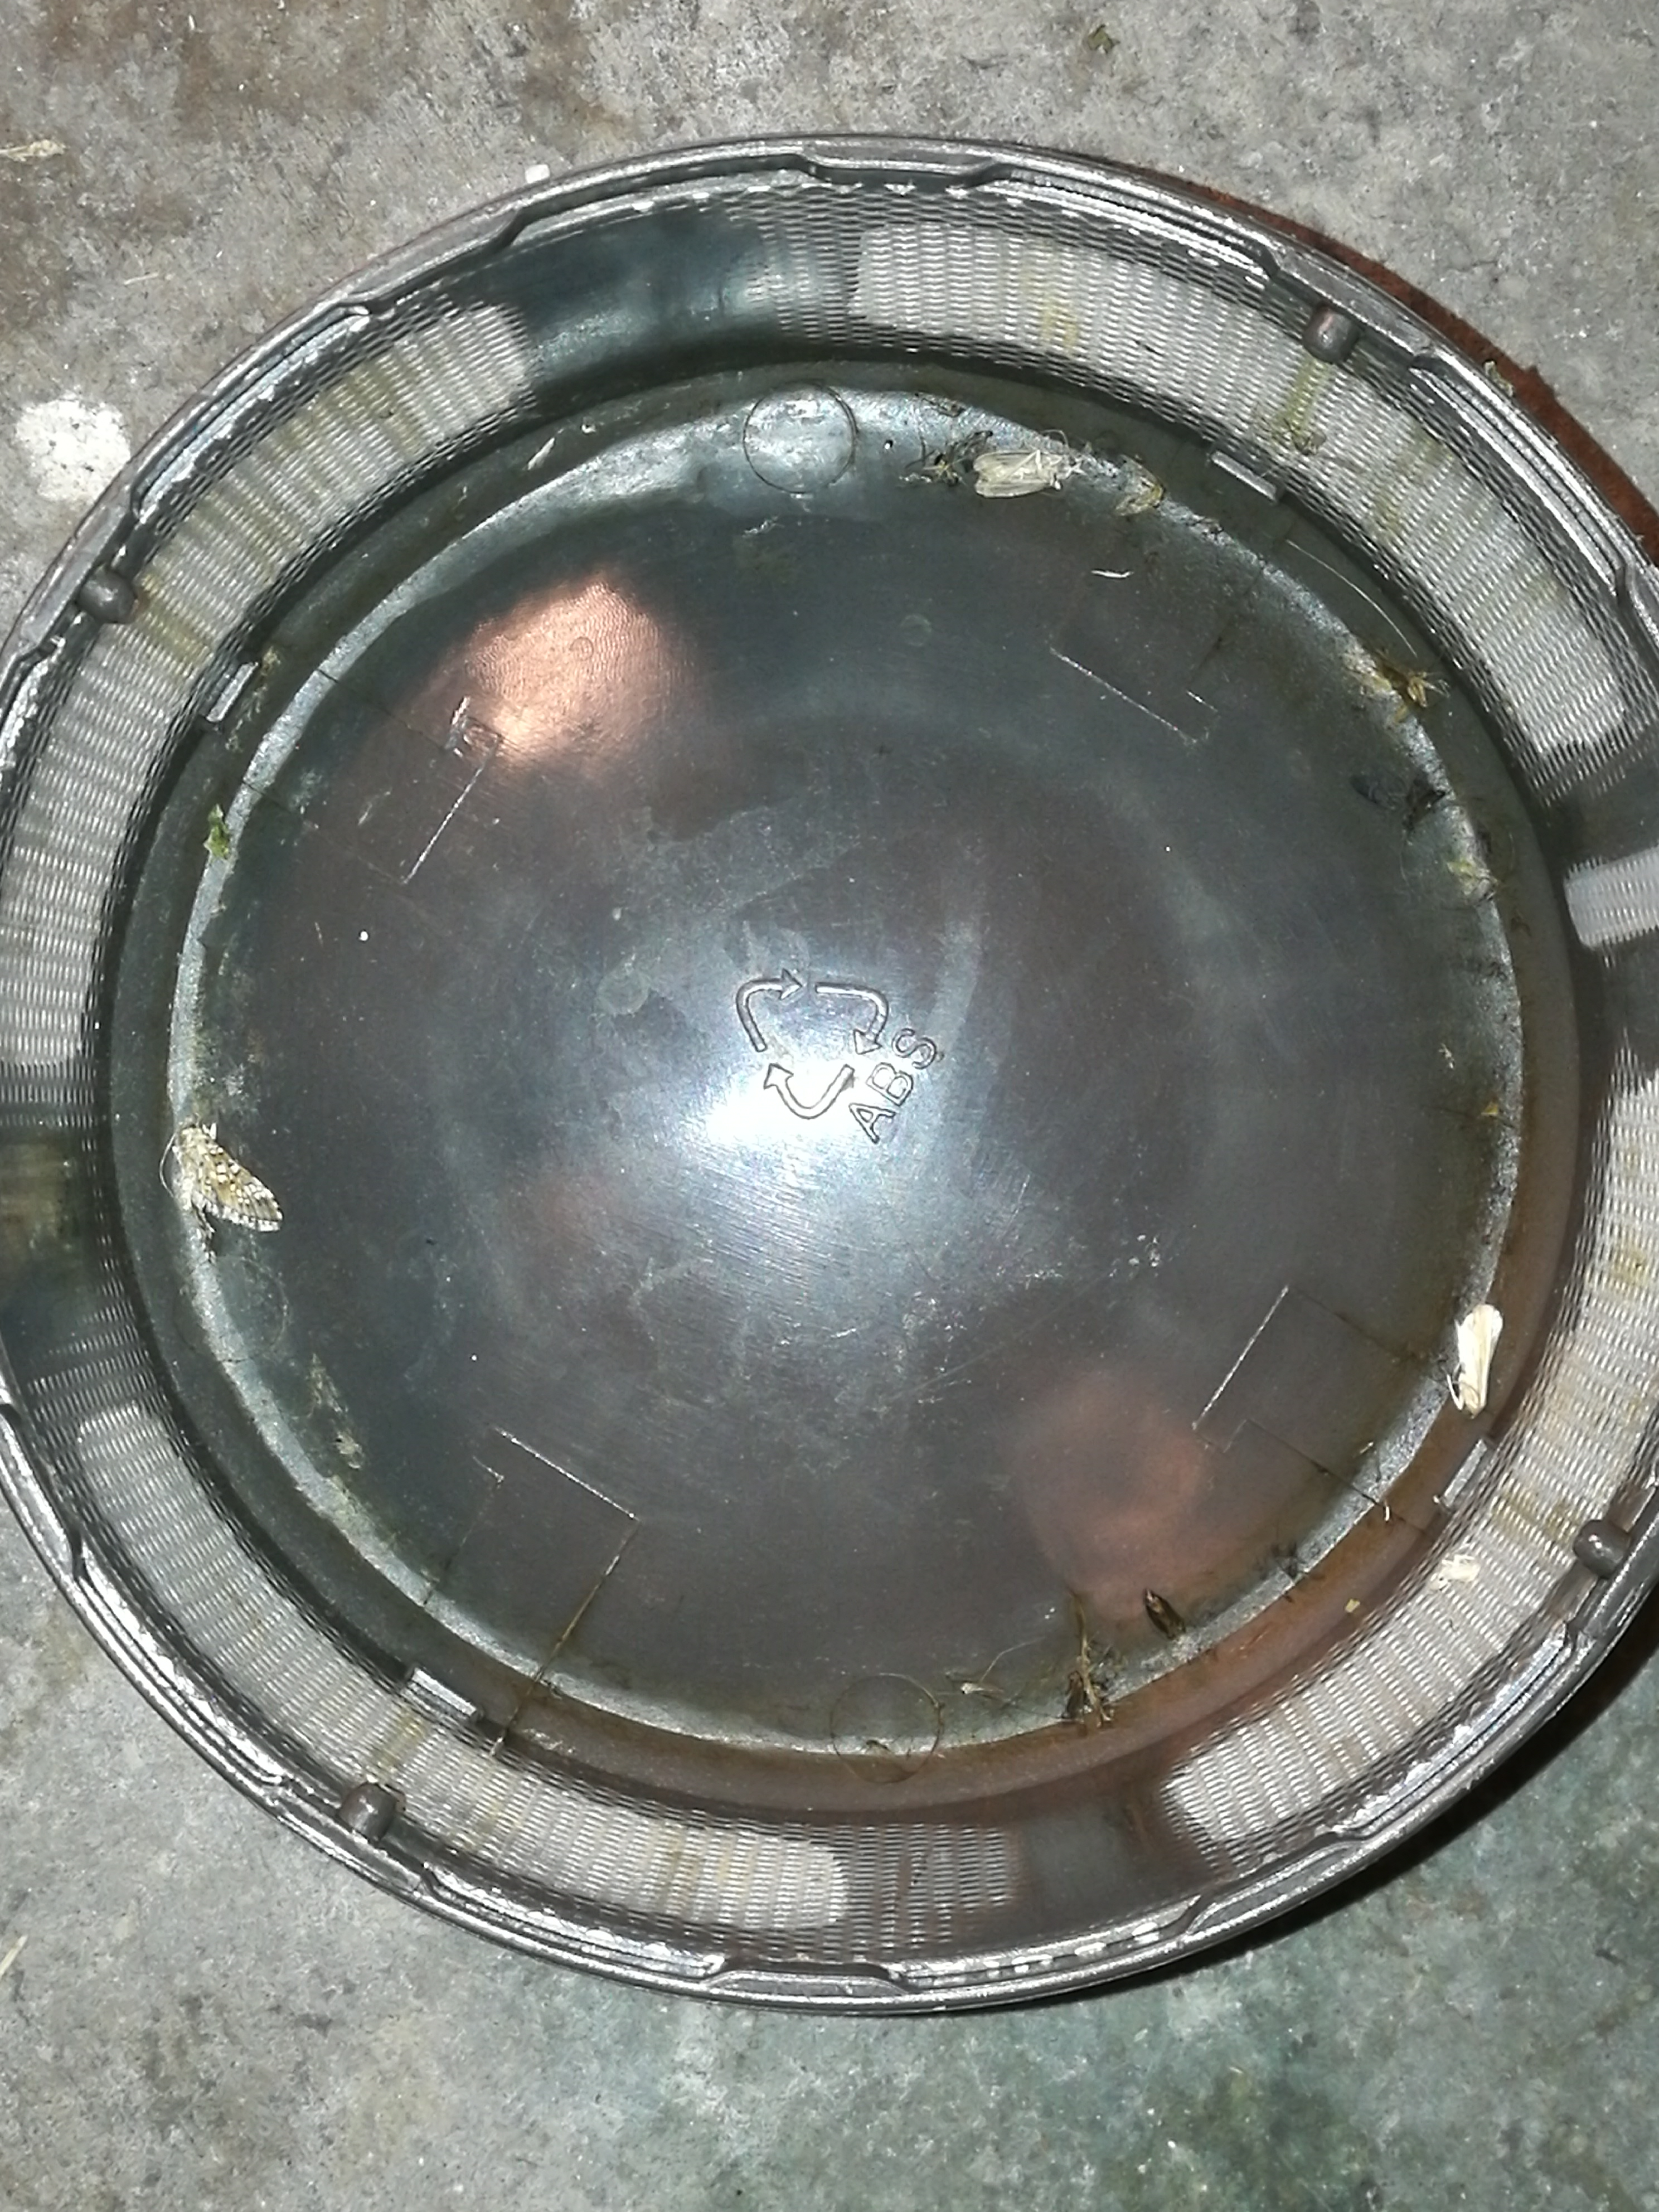mosquito: (1382, 648, 1431, 704)
moth: (179, 1120, 284, 1231), (1460, 1305, 1502, 1414), (976, 453, 1066, 495)
